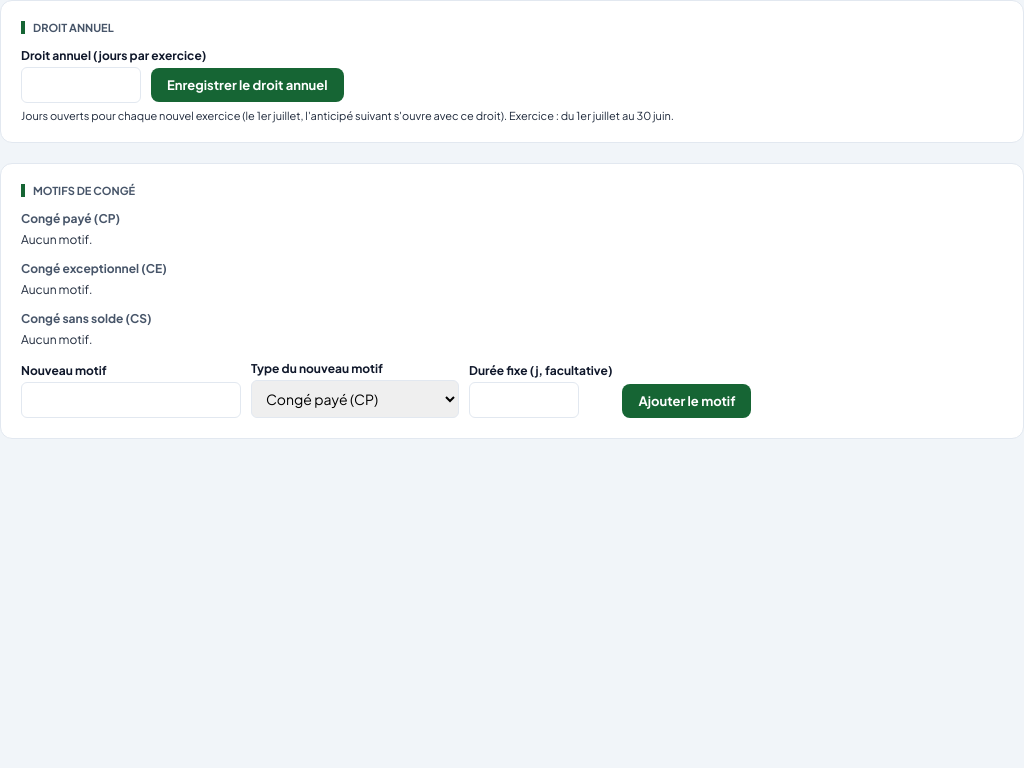
Test case: CongeParametresPanel — droit annuel › enregistre un nouveau droit annuel
Type "35" into the number field labelled "Droit annuel (jours par exercice)". click: (81, 85)
box: [21,67,141,103]
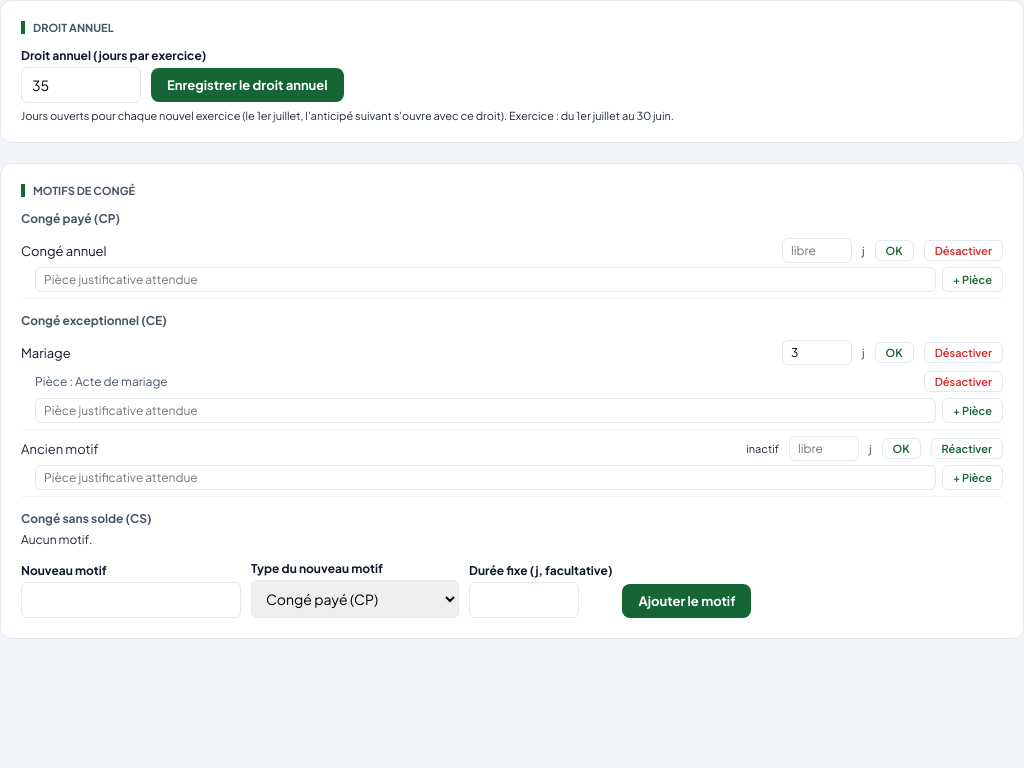
Click the button "Enregistrer le droit annuel". click: (247, 85)
box: [151,68,344,102]
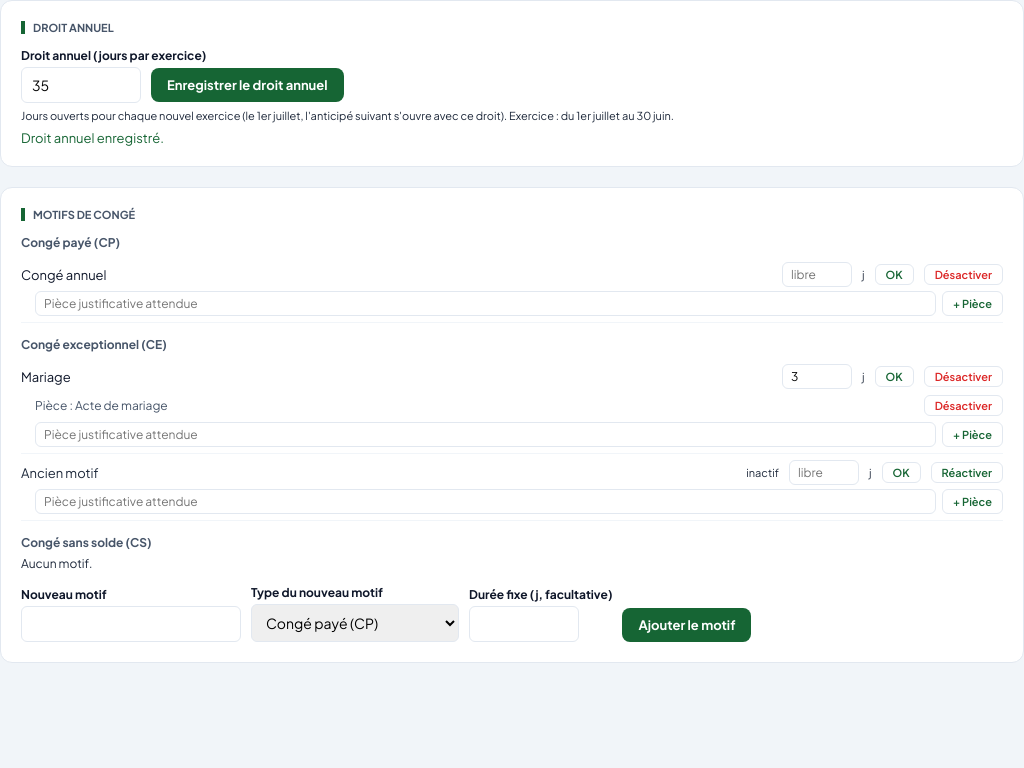
expect the text "Droit annuel enregistré." is shown: met, box [21,130,164,146]
